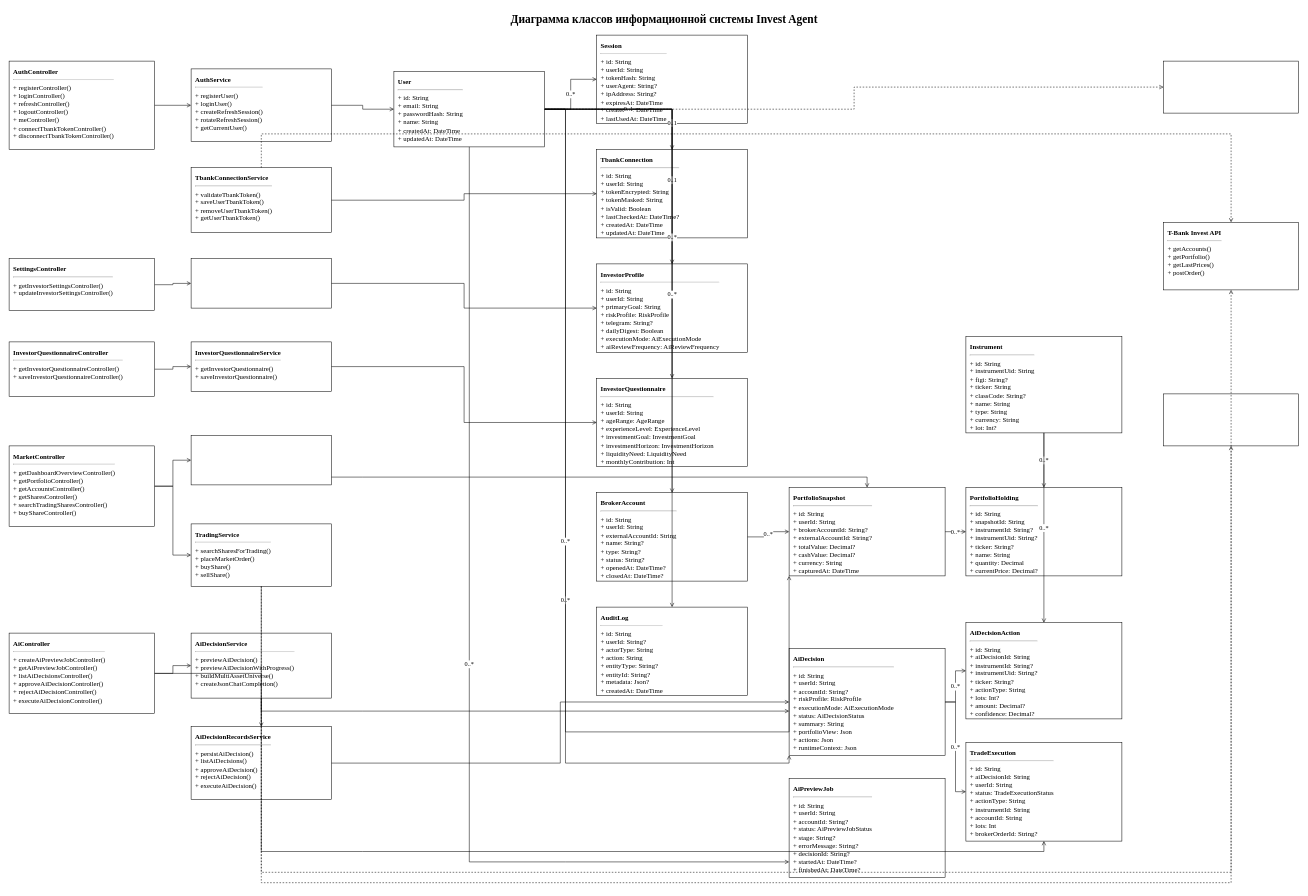
Some shapes in this 1308 by 896 pixel diagram are drawn without their labels. The shapes that lost their labels are listed below. From the top down, each one's box as (x1, y1, x2, y2) in pixels, then its label:
(1163, 61, 1299, 113): PostgreSQL + provider: postgresql + Prisma Client
(191, 258, 332, 308): SettingsService + getInvestorSettings() + updateInvestorSettings()
(1163, 393, 1299, 446): OpenAI API + chat.completions + json_object response
(191, 435, 332, 485): PortfolioService + getPortfolio() + savePortfolioSnapshot()
